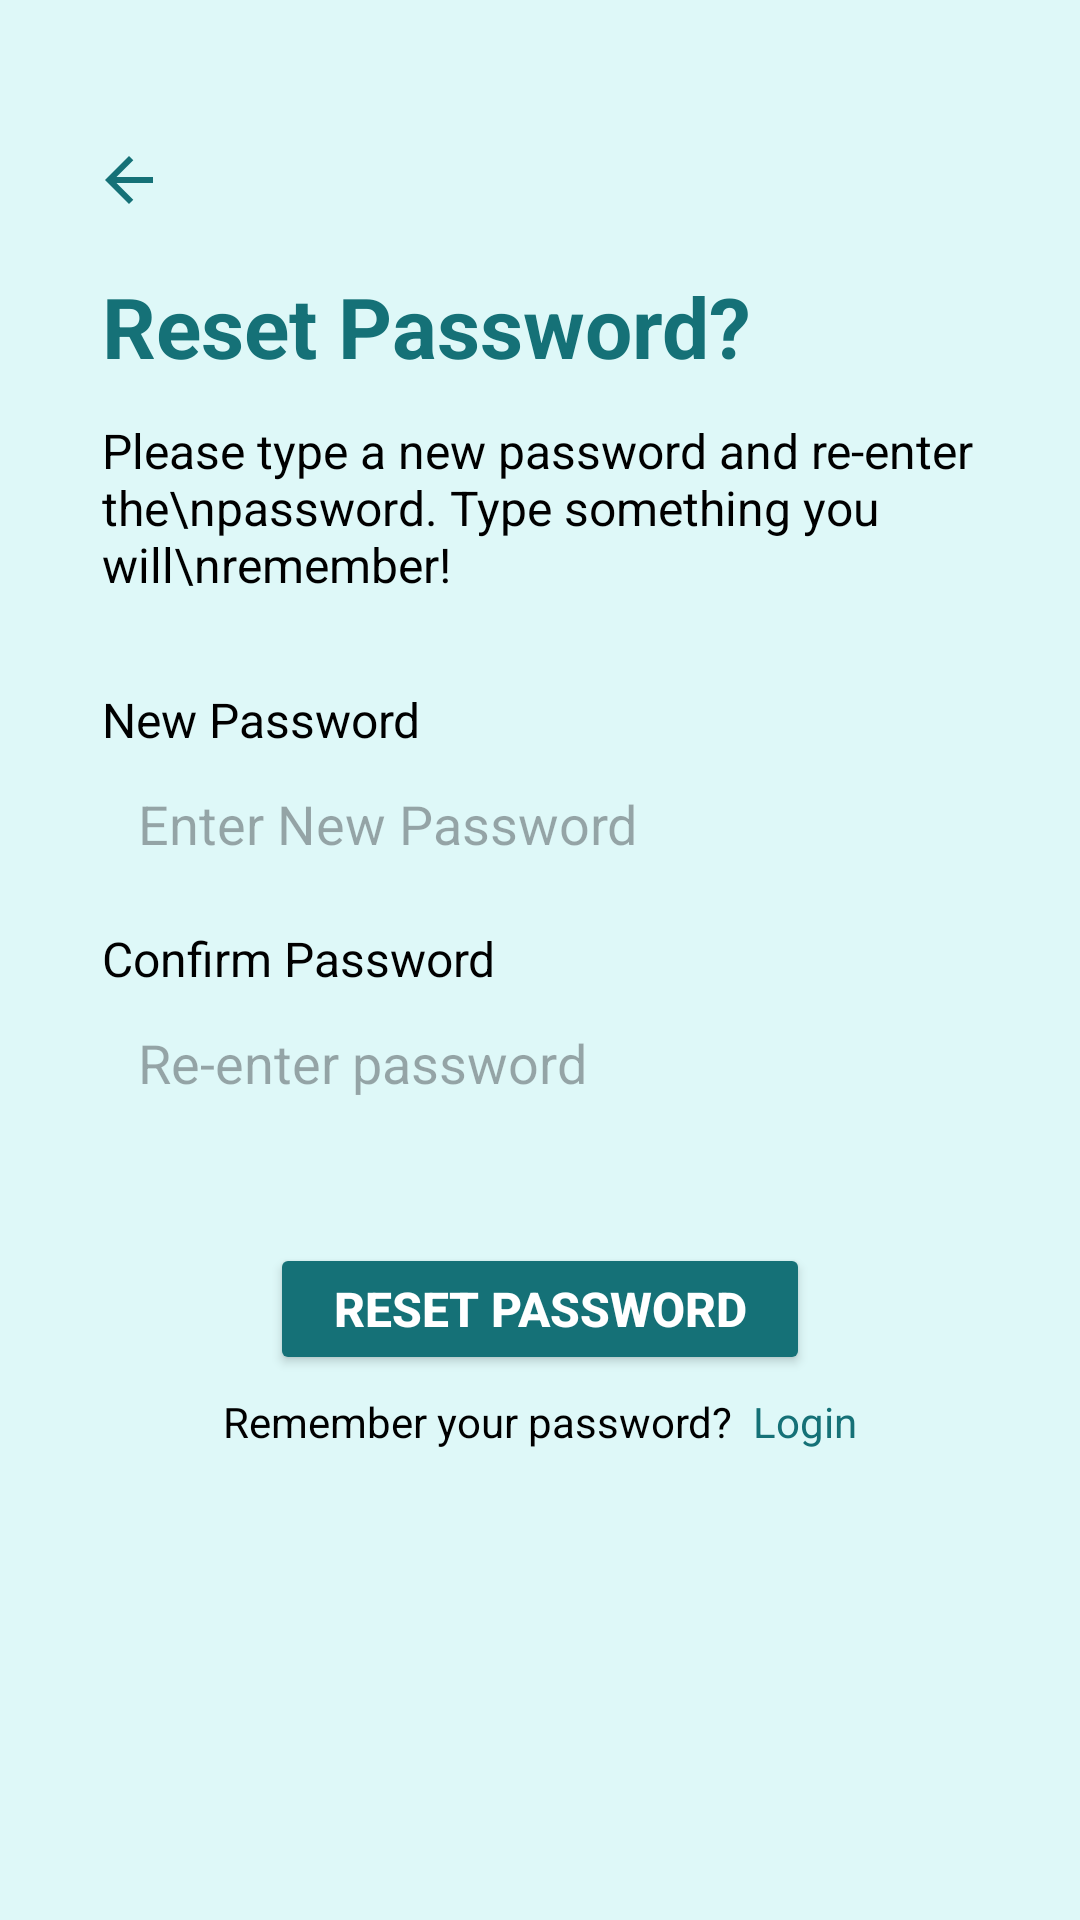

Locate icon controls on the screen. Image size 1080 × 1920, boxes as (x1, y1, x2, y2).
back arrow: (105, 156, 153, 204)
